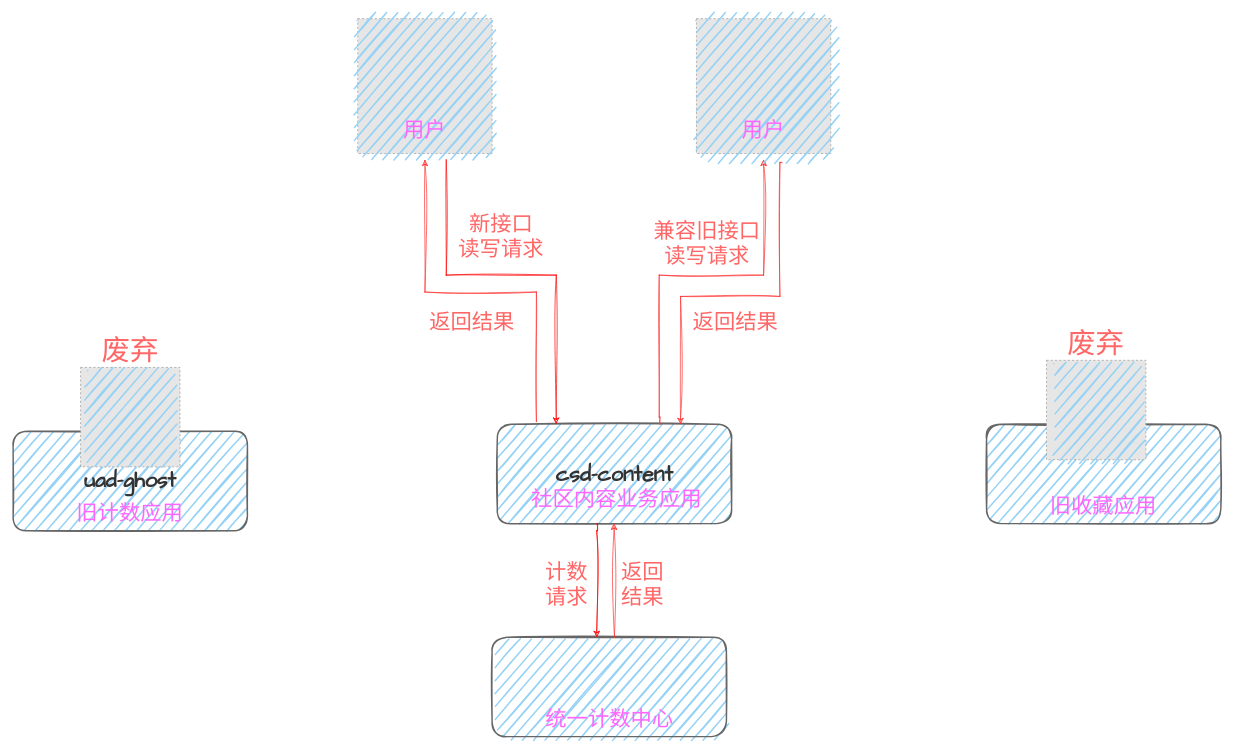
Some shapes in this 1233 by 749 pixel diagram are drawn without their labels. Grey dashed boxes stand in for pictures. The shapes that lost their labels are listed below. From the top down, each one's box as (x1, y1, x2, y2) in pixels, then its label:
(985, 423, 1221, 524): uad-neck
(491, 636, 727, 737): csd-counter
